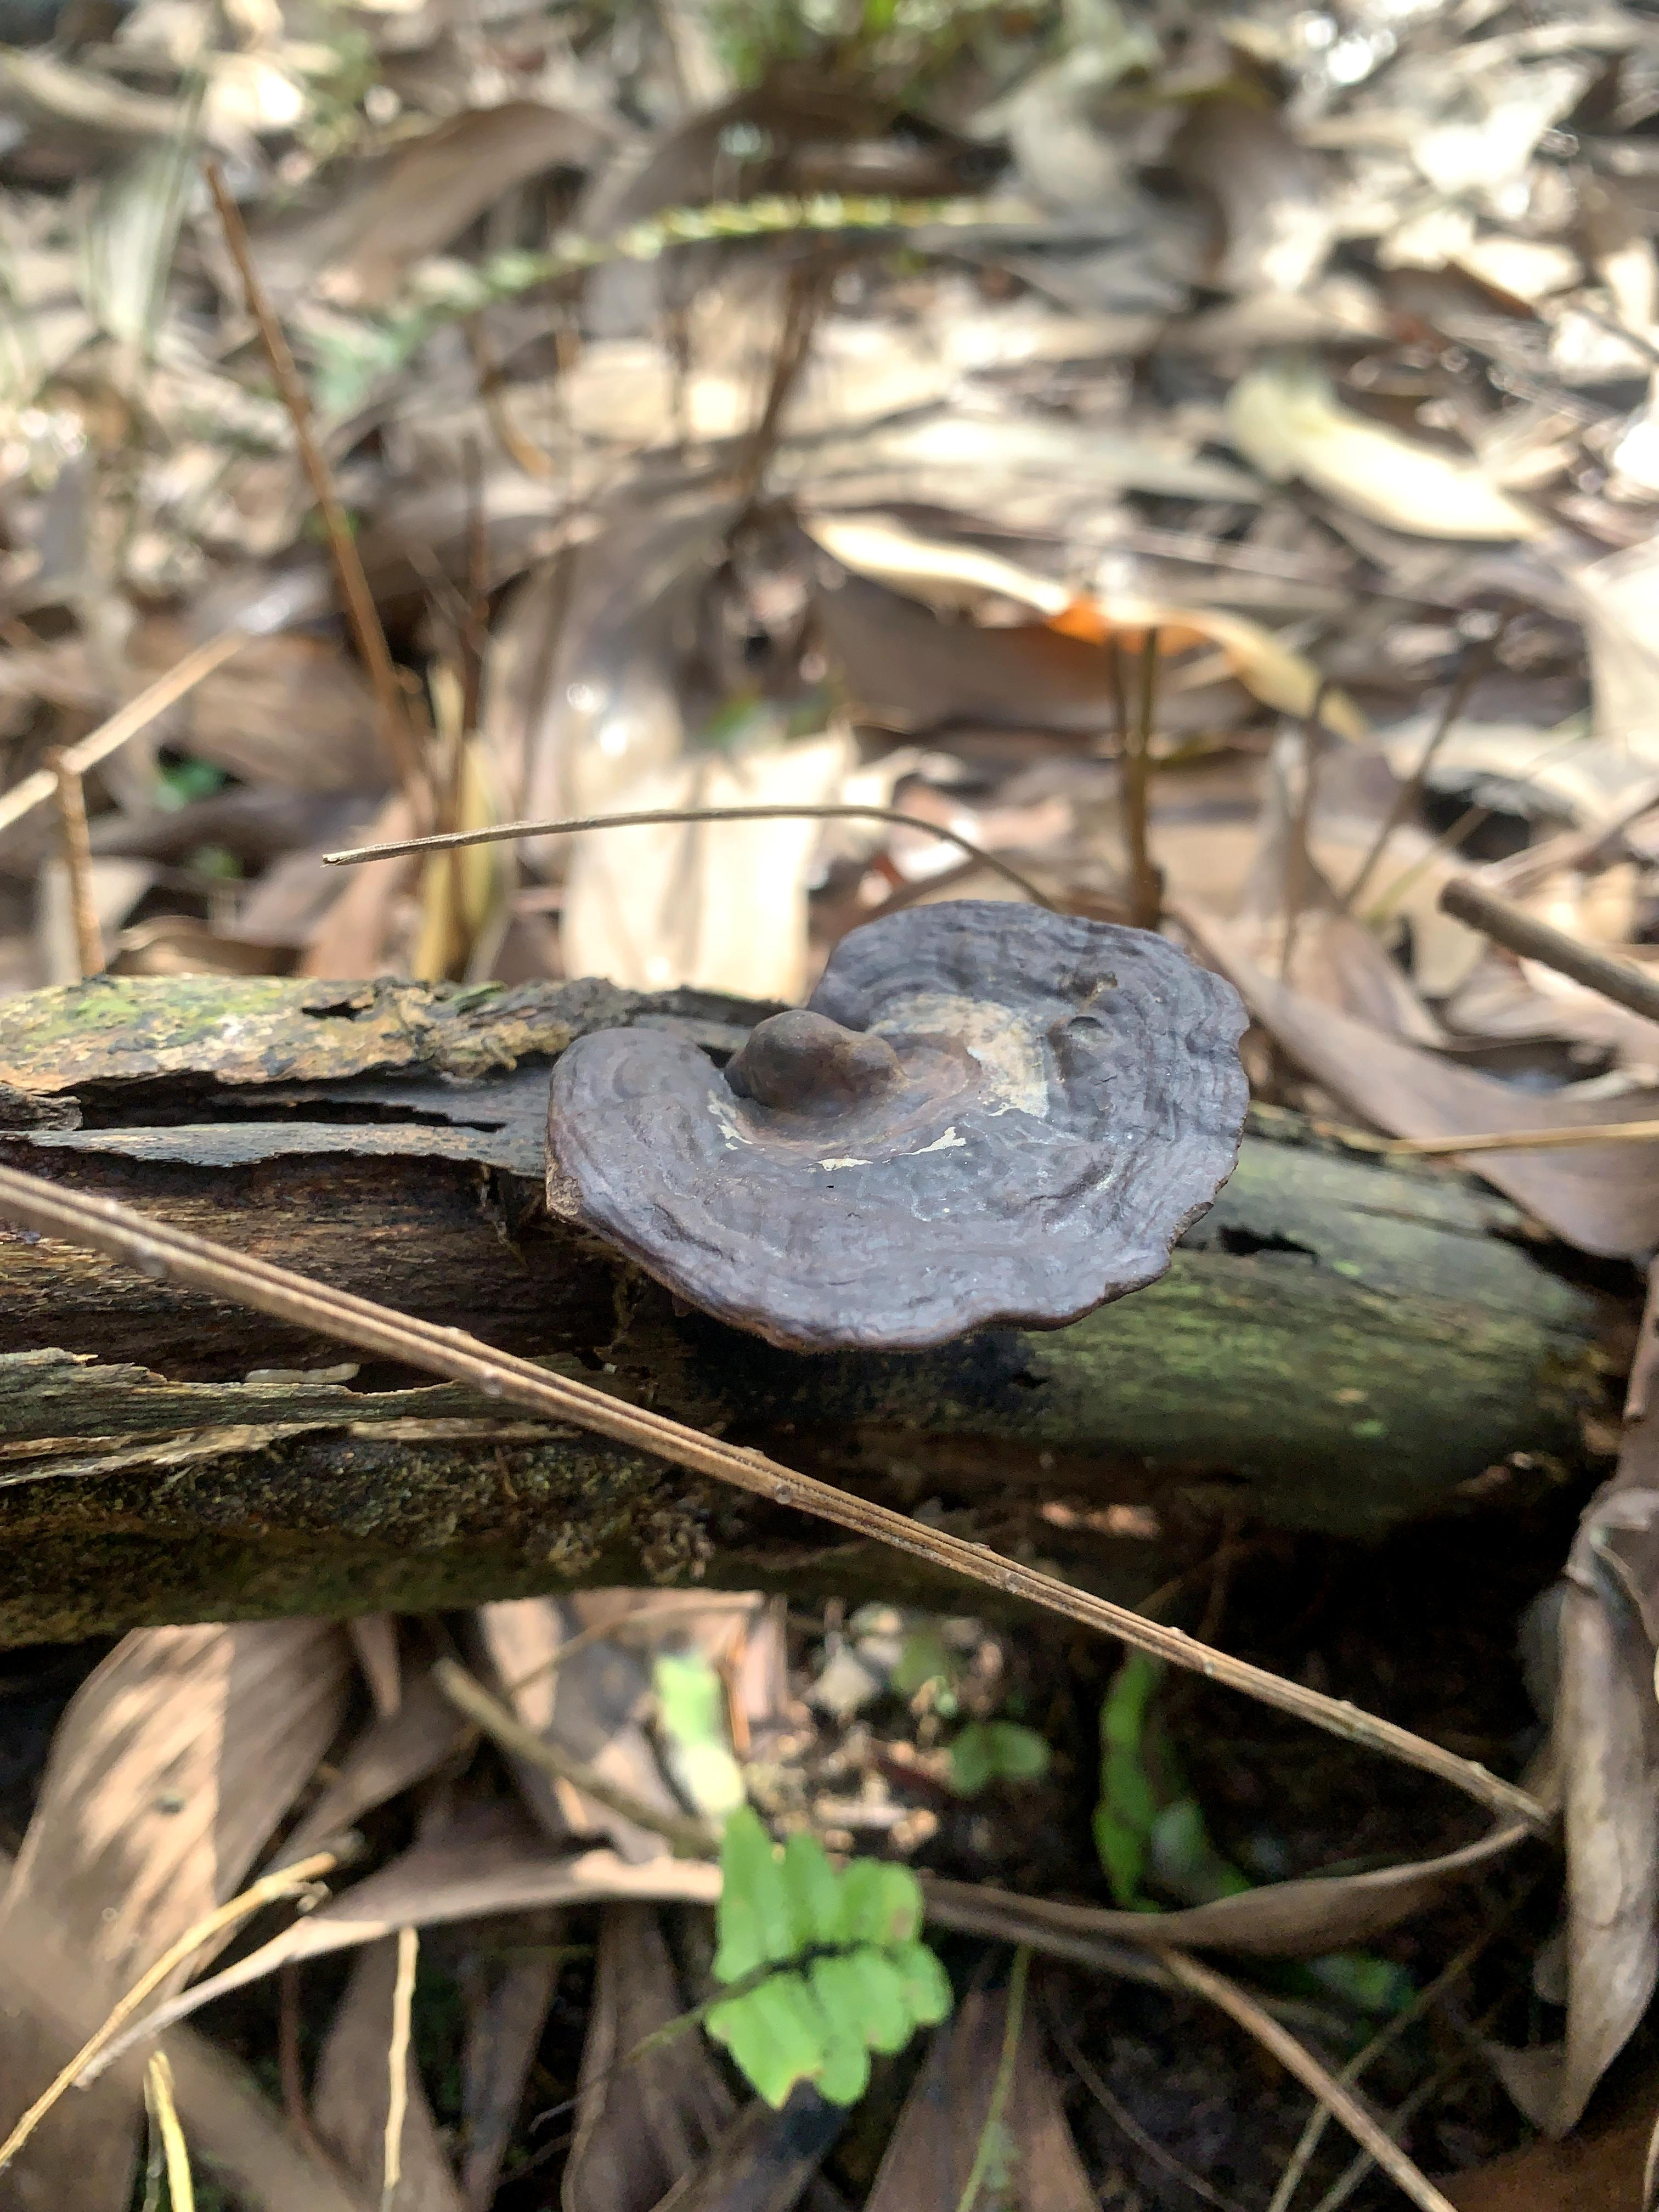Ganoderma - Fruit Body: (457, 867, 1288, 1381)
